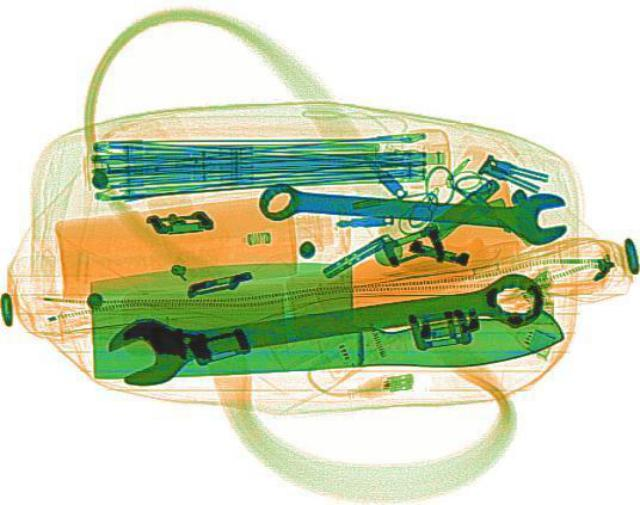Knife: (81, 247, 564, 384)
Wrench: (98, 262, 550, 387), (255, 172, 568, 243)
